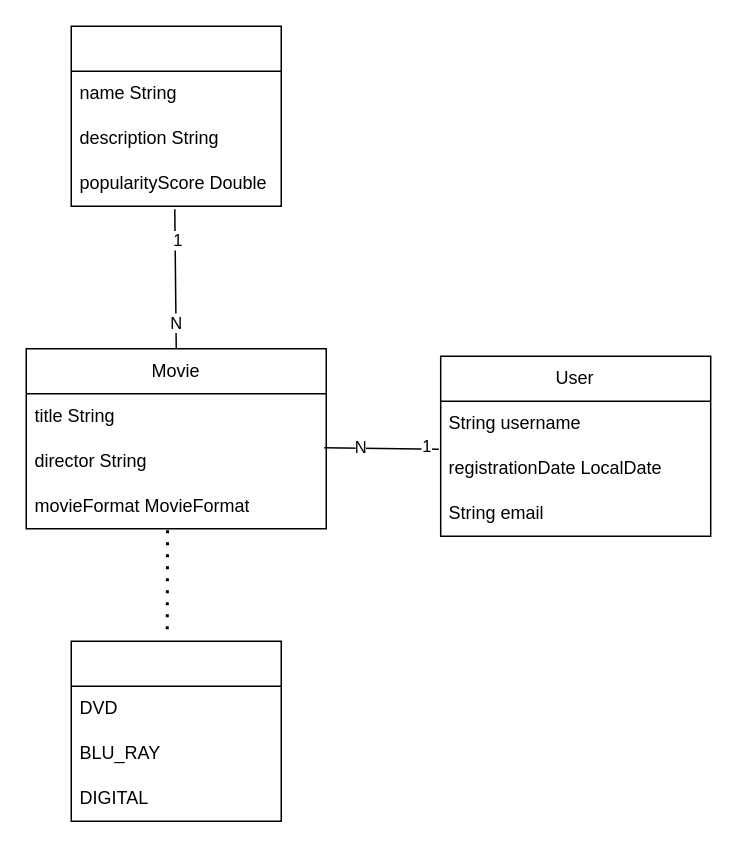
Some shapes in this 738 by 848 pixel diagram are drawn without their labels. The box of each missing label's shape, as (x1, y1, x2, y2) in pixels:
Genre: (70, 25, 281, 206)
MovieFormat(enum): (70, 640, 281, 821)
